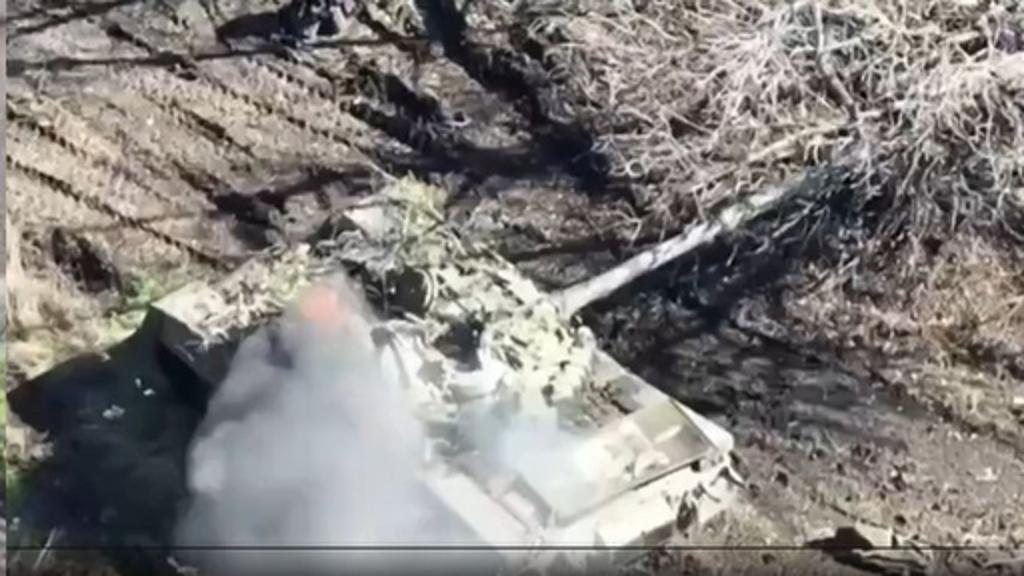TANK: (126, 140, 850, 572)
